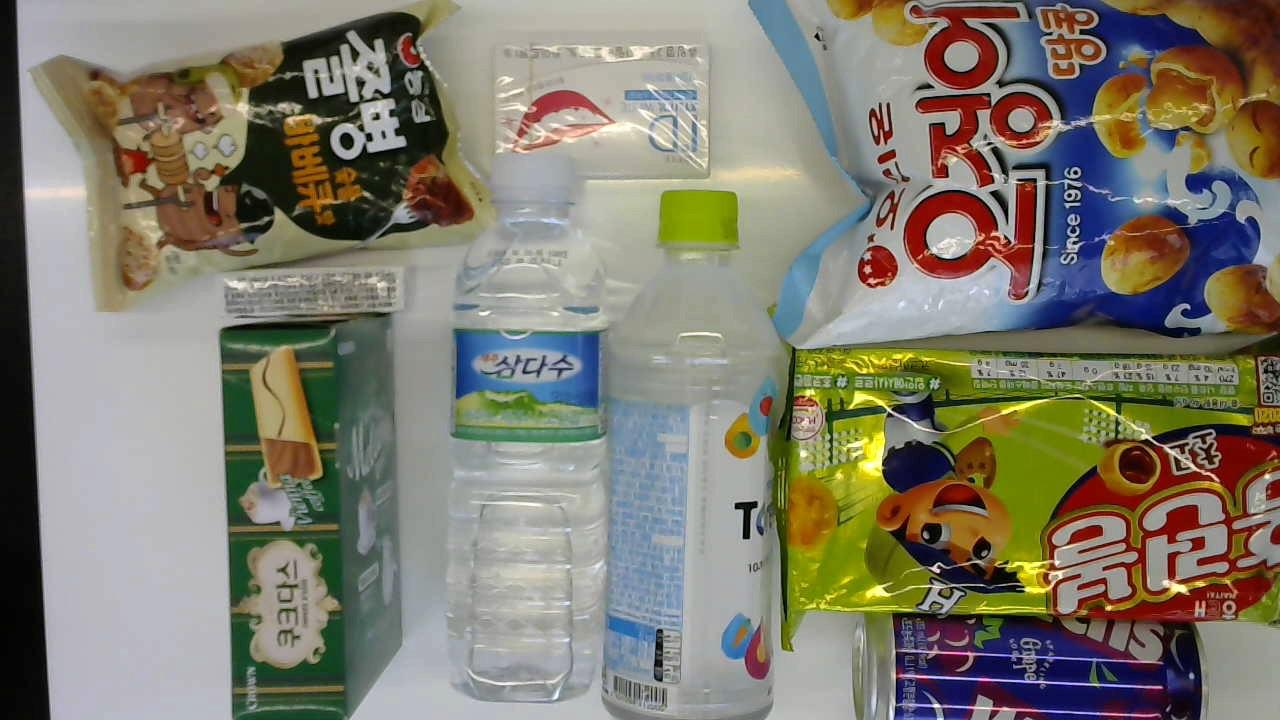ID_gum: (487, 30, 712, 179)
couque_coffee: (223, 308, 390, 717)
homerunball: (783, 340, 1274, 642)
jjolbyung_ori: (31, 1, 485, 314)
samdasu: (446, 154, 608, 704)
spearmint: (221, 255, 409, 321)
squid_peanut: (737, 3, 1279, 361)
toreta: (609, 191, 776, 720)
welchs: (838, 609, 1211, 720)
